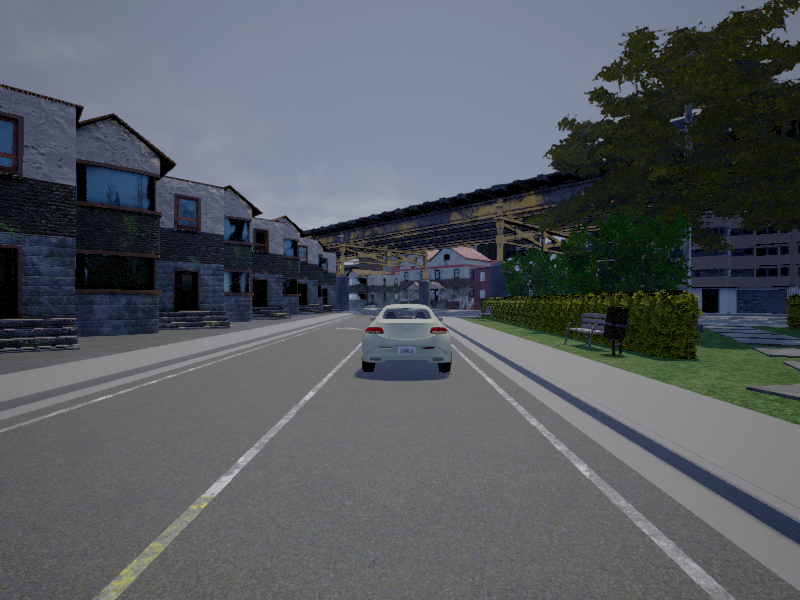Benign: (362, 306, 452, 375)
